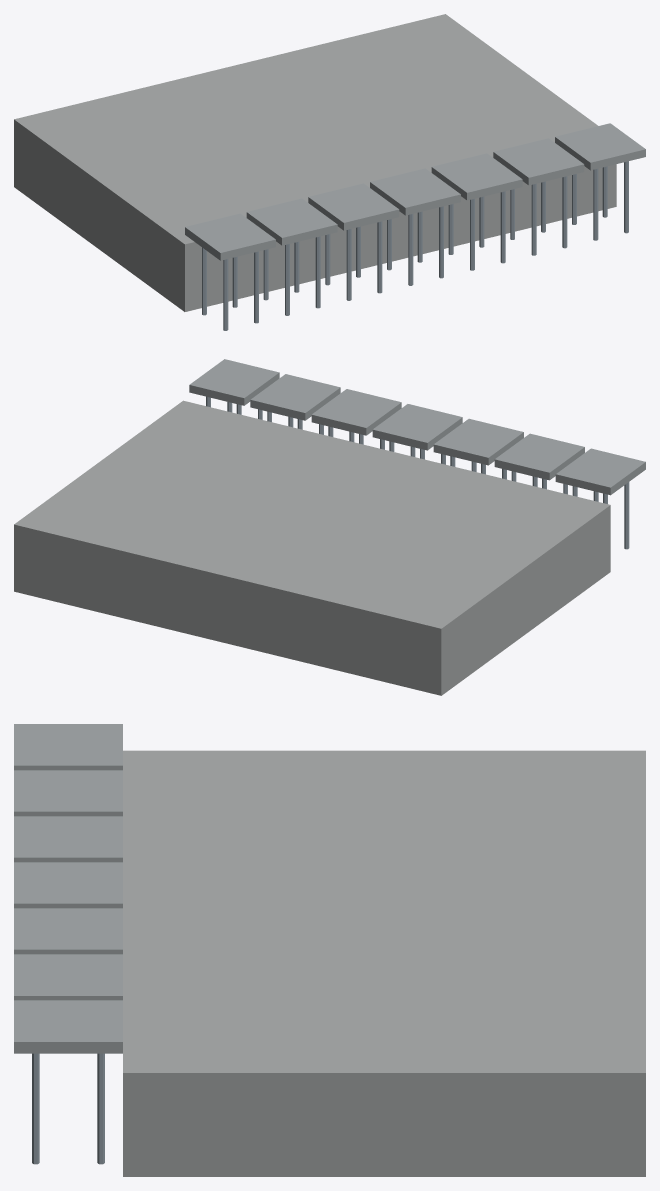
The picture shows the model from 3 angles, top to bottom: view 1: azimuth 30°, elevation 25°; view 2: azimuth 150°, elevation 25°; view 3: azimuth 270°, elevation 25°; orthographic projection. The views are drawn at different scales.
Parts seen in each view (by area): view 1: worldgen; view 2: worldgen; view 3: worldgen.
Part boxes in pixels (x1=…): worldgen: x1=14, y1=14, x2=645, y2=330; worldgen: x1=14, y1=359, x2=645, y2=695; worldgen: x1=14, y1=724, x2=645, y2=1176.
Bounding box in the file's own units: 70 × 13.2 × 58.
